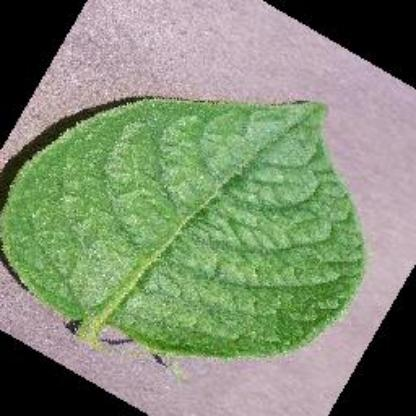Healthy-plant: (0, 82, 372, 366)
